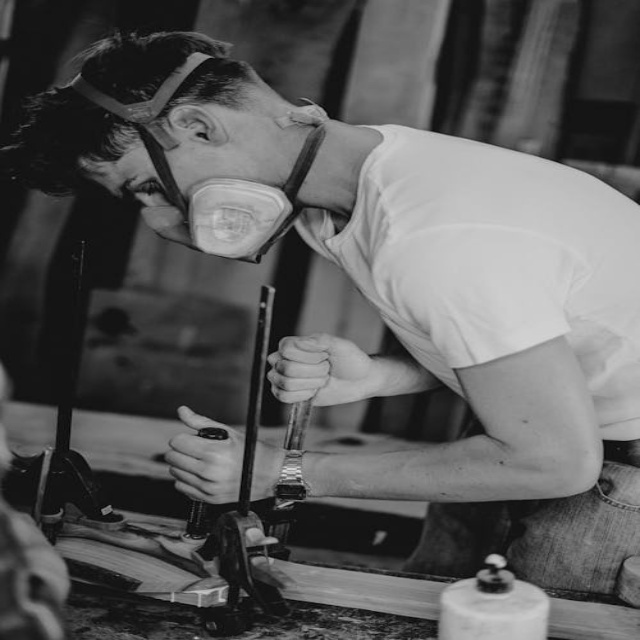Mascara: (105, 74, 289, 266)
Sin_gafas: (122, 158, 168, 209)
Sin_guantes: (164, 402, 267, 510), (266, 329, 394, 408)
